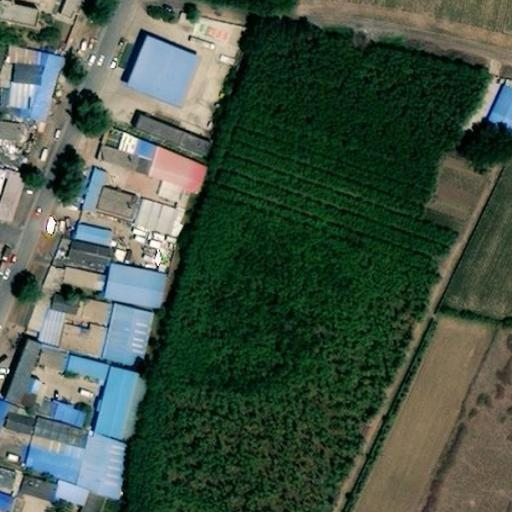building: (128, 55, 203, 129), (27, 434, 91, 501), (94, 383, 142, 459), (78, 450, 135, 512), (134, 129, 212, 174), (105, 315, 157, 382), (96, 137, 159, 192), (147, 156, 212, 206), (105, 278, 168, 324), (81, 181, 137, 231), (7, 360, 45, 425), (63, 264, 114, 305), (188, 7, 242, 44), (60, 338, 112, 373), (34, 391, 87, 425), (20, 283, 54, 335), (483, 98, 512, 156), (135, 211, 175, 249), (39, 318, 70, 363), (0, 17, 40, 50), (69, 371, 110, 397), (74, 237, 114, 263), (21, 488, 61, 512), (37, 258, 65, 292), (0, 132, 24, 162), (55, 423, 87, 444), (63, 7, 86, 34), (57, 497, 91, 512), (0, 414, 12, 449), (0, 182, 11, 212)
